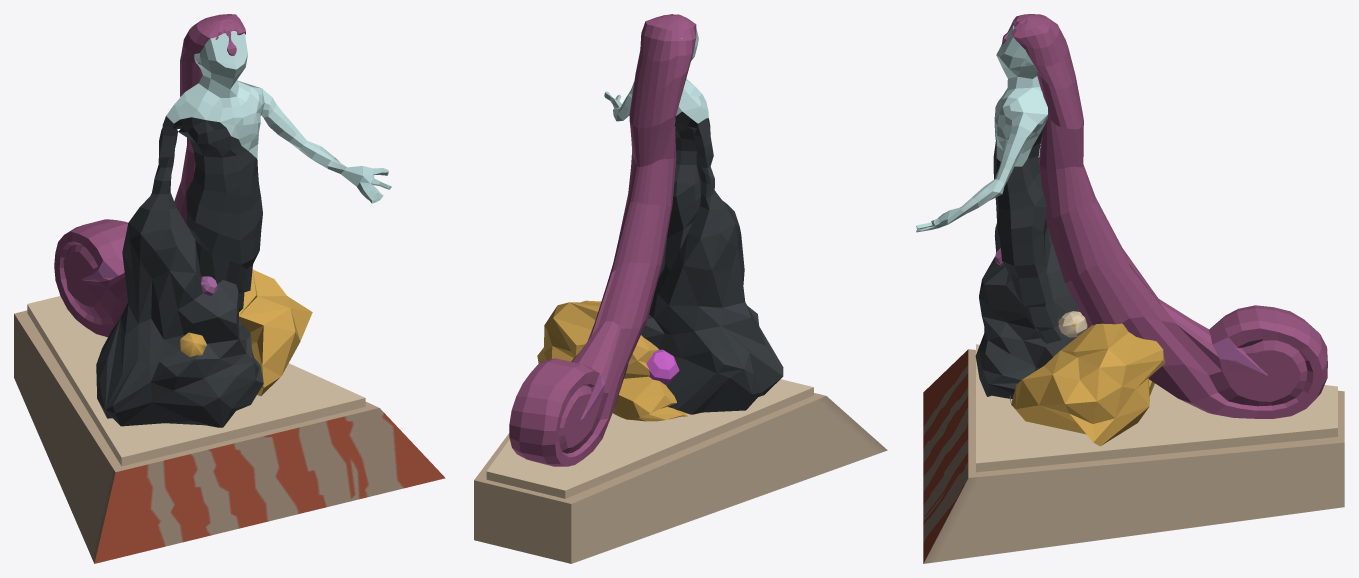
Rendered from Statue_Water.fbx.
The picture shows the model from 3 angles, left to right: view 1: azimuth 30°, elevation 25°; view 2: azimuth 150°, elevation 25°; view 3: azimuth 270°, elevation 25°; orthographic projection. The views are drawn at different scales.
Parts seen in each view (by area): view 1: Statue_water; view 2: Statue_water; view 3: Statue_water.
Boxes of the visible parts, x1,y1,x2,y2 form: Statue_water: (14, 14, 445, 563); Statue_water: (474, 14, 887, 563); Statue_water: (916, 14, 1344, 563).
Bounding box in the file's own units: 2.81 × 3.52 × 2.96.
1 material, 1 textured.
